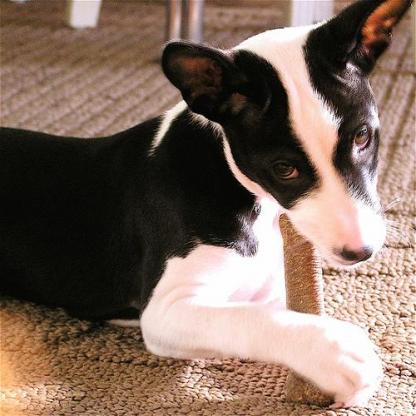basenji: (0, 0, 414, 411)
